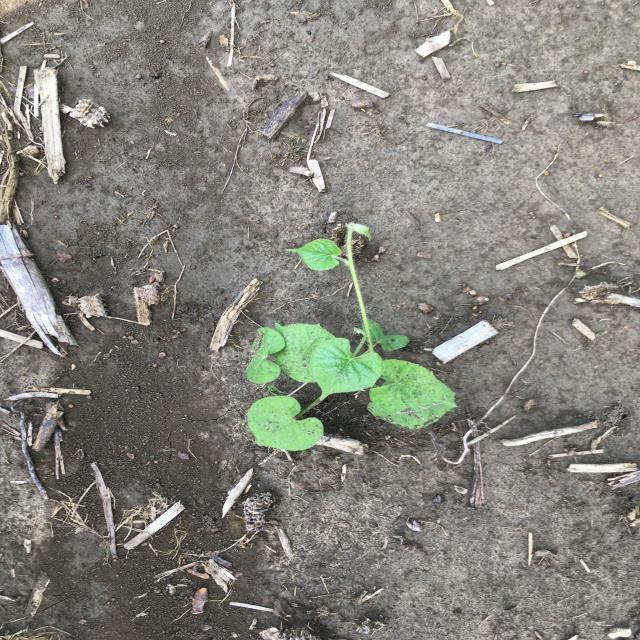MorningGlory: (242, 220, 461, 453)
